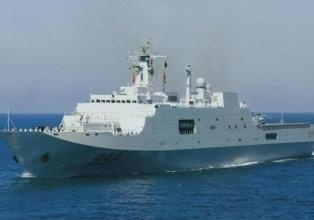warship: (8, 43, 314, 177)
